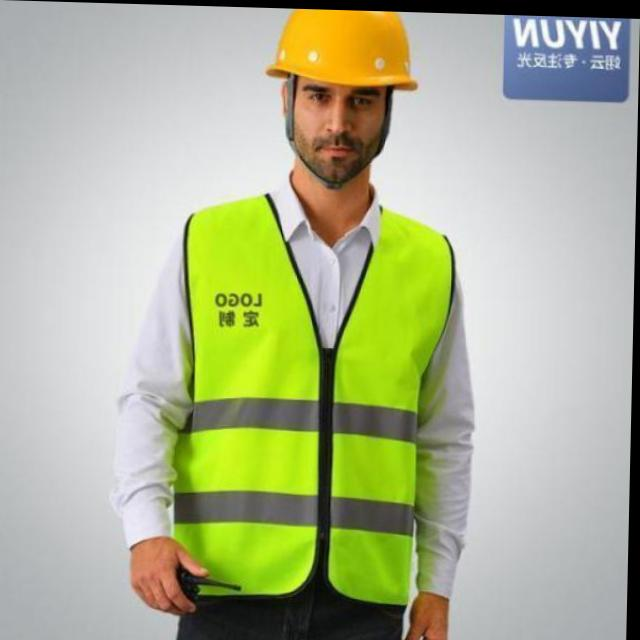Helmet: (266, 6, 420, 89)
No-Glove: (117, 534, 208, 619), (403, 592, 460, 640)
Safety-Vest: (172, 187, 459, 608)
